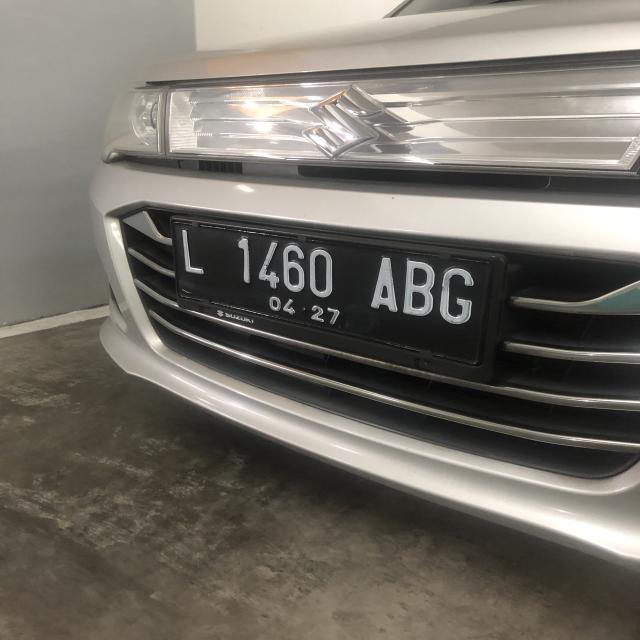0: (306, 247, 338, 300)
1: (232, 234, 254, 286)
4: (256, 240, 282, 288)
6: (281, 244, 306, 294)
A: (367, 255, 398, 315)
B: (400, 262, 438, 318)
G: (442, 266, 476, 328)
L: (180, 228, 209, 276)
